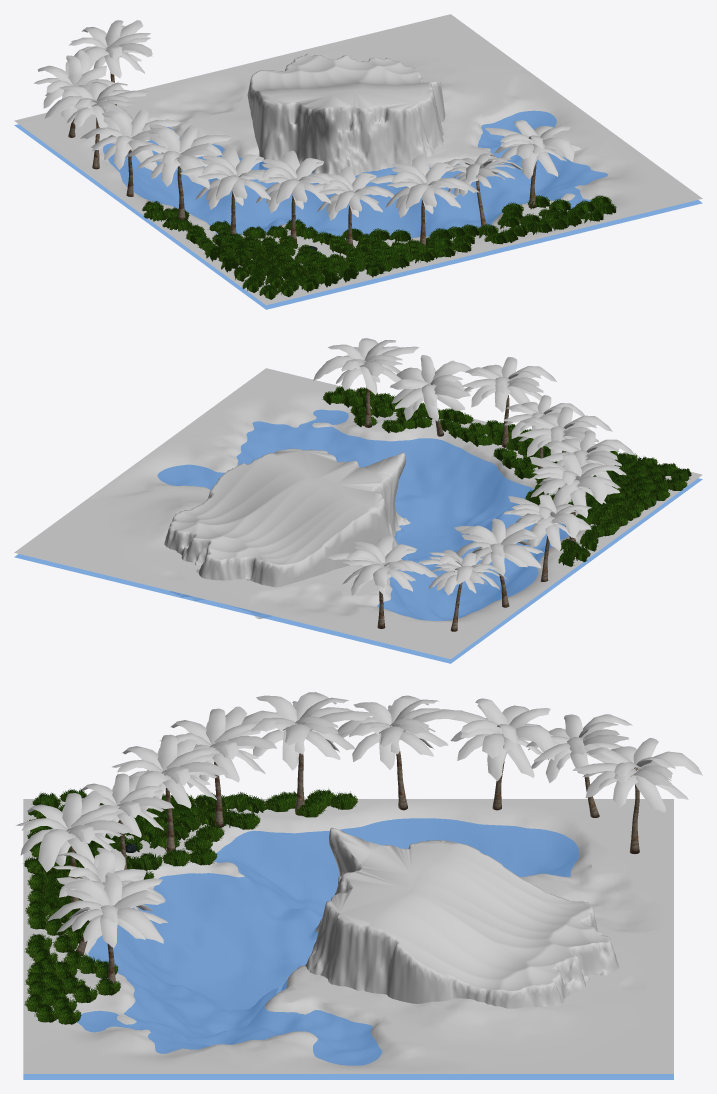
Rendered from Oasis v1.fbx.
The picture shows the model from 3 angles, top to bottom: view 1: azimuth 30°, elevation 25°; view 2: azimuth 150°, elevation 25°; view 3: azimuth 270°, elevation 25°; orthographic projection. The views are drawn at different scales.
Visible parts, largest first — view 1: Oasis; view 2: Oasis; view 3: Oasis.
Boxes of the visible parts, bbox=[...] form: Oasis: bbox=[14, 14, 702, 309]; Oasis: bbox=[14, 338, 702, 663]; Oasis: bbox=[16, 692, 702, 1079].
Bounding box in the file's own units: 3746 × 1087 × 3701.
